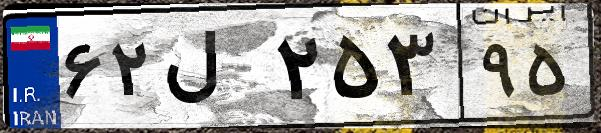2: (270, 28, 330, 110), (110, 28, 158, 98)
3: (385, 28, 445, 110)
5: (330, 28, 385, 110), (525, 38, 570, 115)
6: (57, 26, 110, 100)
9: (475, 38, 525, 113)
ل: (158, 20, 270, 120)
